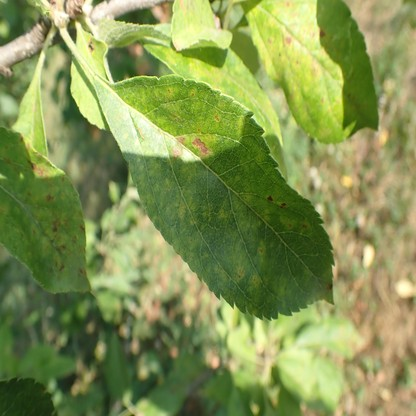scab: (109, 77, 332, 310), (0, 136, 86, 281), (268, 0, 355, 104)
